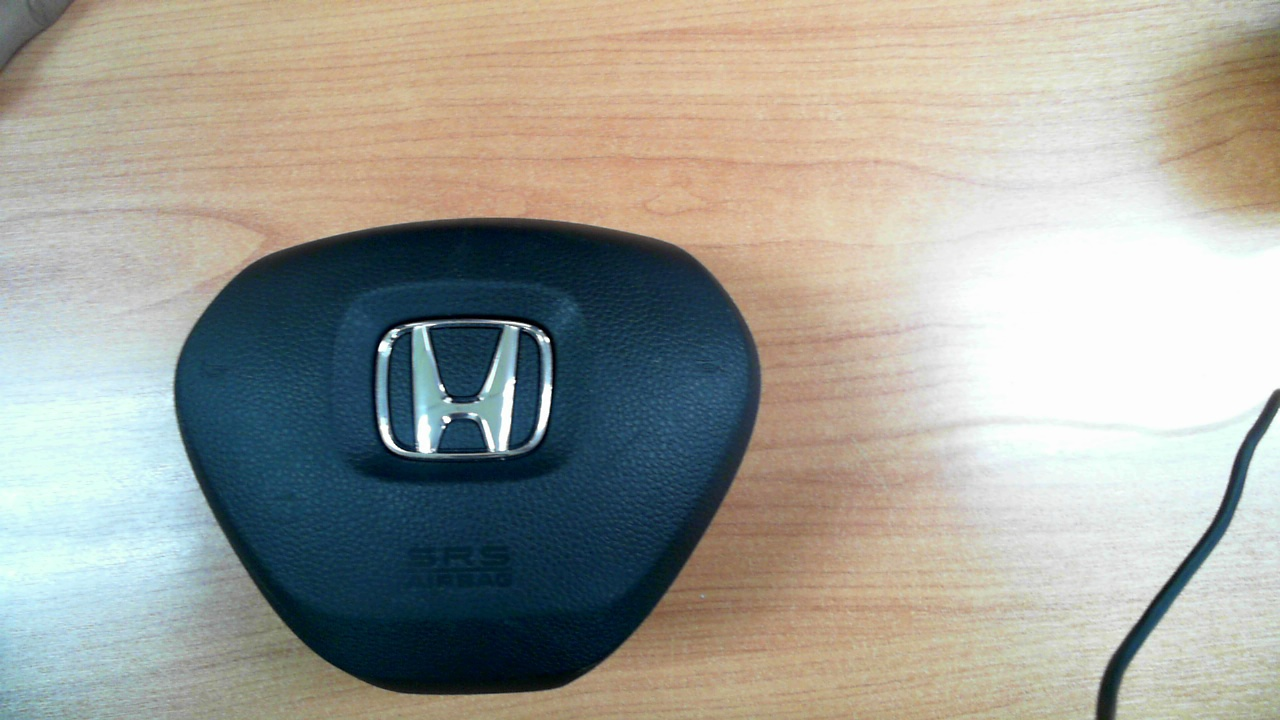Airbag: (172, 216, 763, 696)
Honda: (374, 318, 554, 461)
